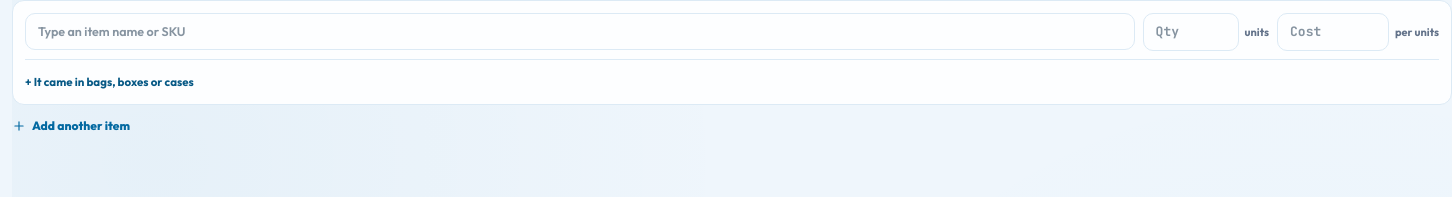
Test case: choosing an item › fills the cost it was last bought at
The image size is (1452, 197).
Focus the field with placeholder "Type an item name or SKU" at (580, 32), box top-left (25, 13), bottom-right (1135, 50)
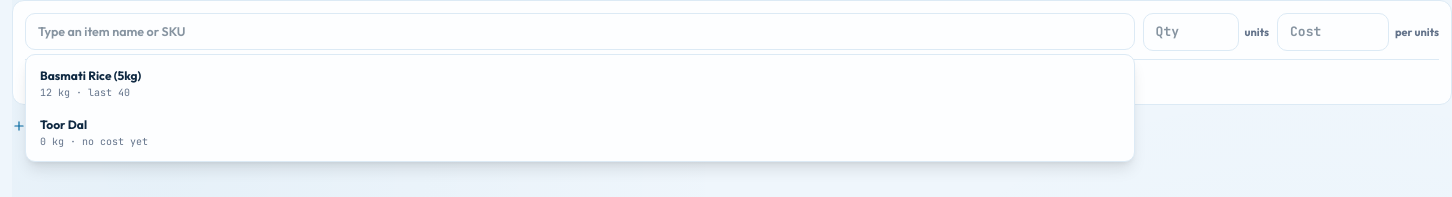
Click the text "Basmati Rice (5kg)" at (91, 76), box top-left (40, 68), bottom-right (141, 83)
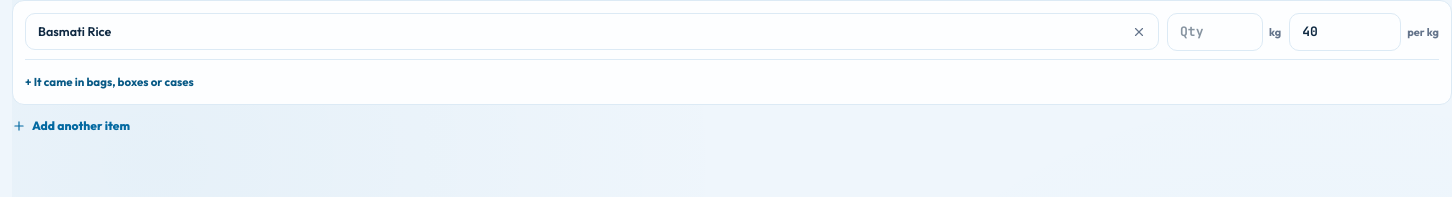
Check: the number field with placeholder "Cost" holds "40", box top-left (1289, 13), bottom-right (1401, 50)
